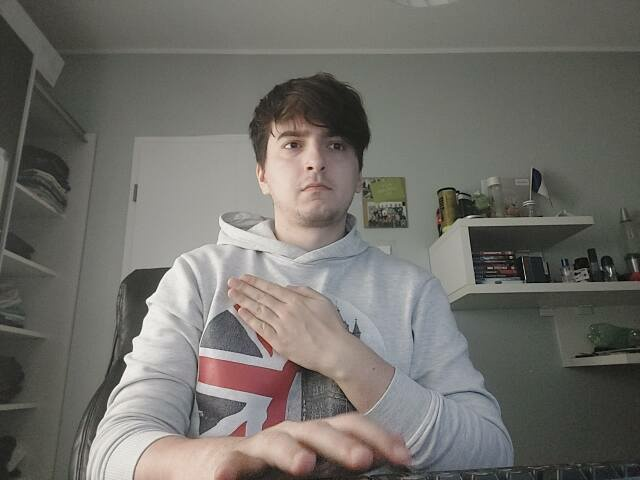please: (225, 274, 356, 377)
